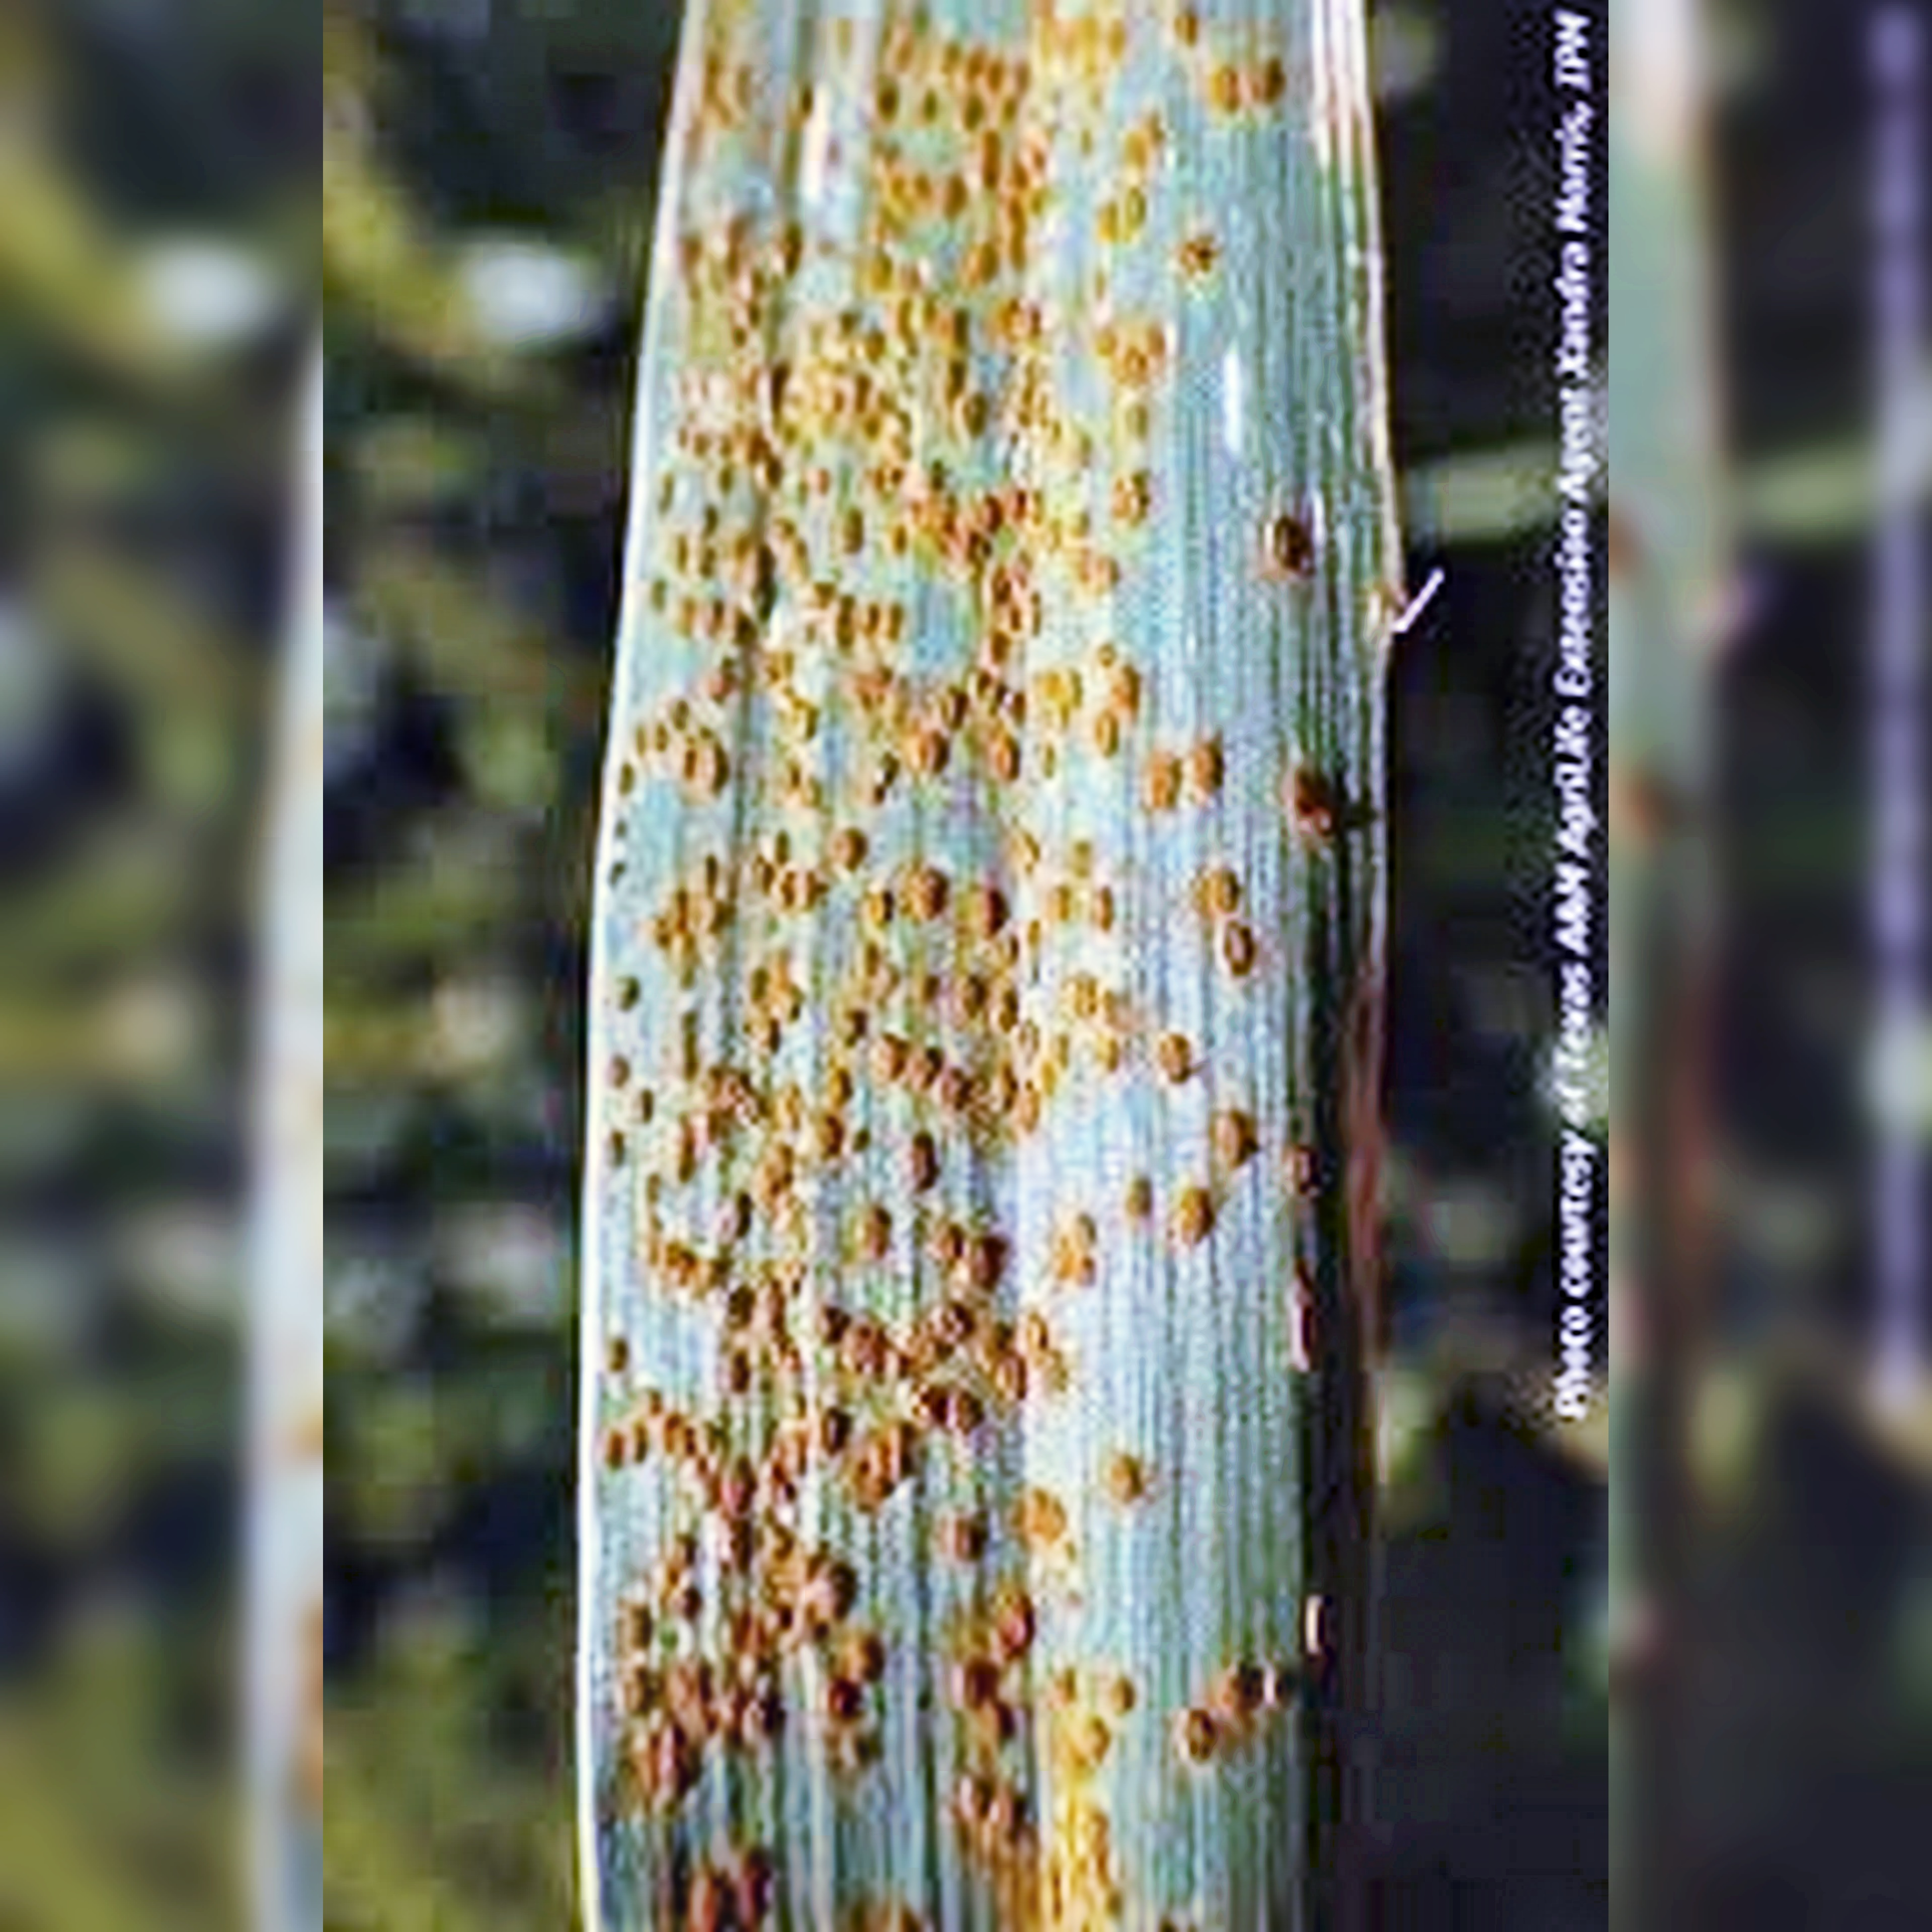Leaf Rust: (598, 55, 1355, 1890)
